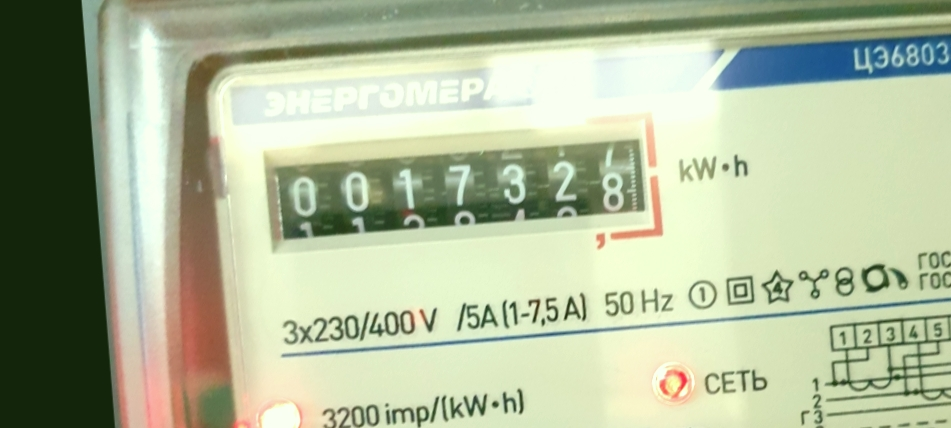0: (287, 173, 322, 219), (341, 166, 373, 214)
1: (395, 163, 420, 211)
2: (547, 157, 580, 204)
3: (499, 160, 529, 205)
7: (445, 161, 475, 209)
8: (598, 169, 626, 213)
screen: (253, 112, 672, 271)
